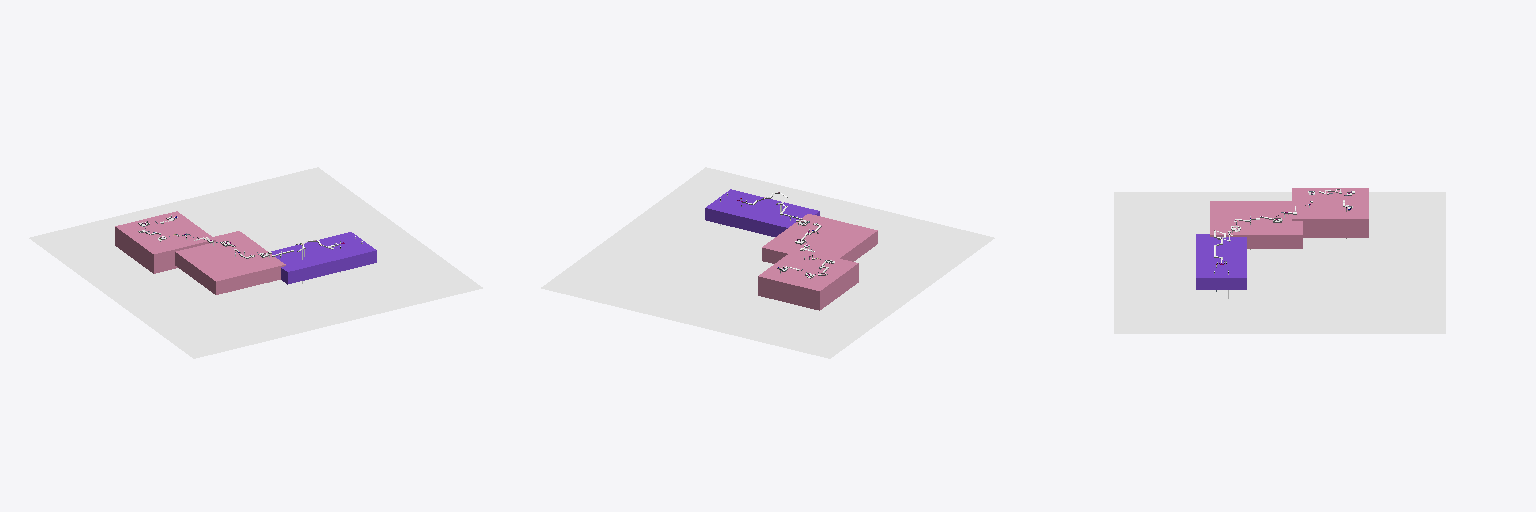
Rendered from level1.obj.
The picture shows the model from 3 angles: view 1: azimuth 30°, elevation 25°; view 2: azimuth 150°, elevation 25°; view 3: azimuth 270°, elevation 25°; orthographic projection.
Parts seen in each view (by area): view 1: objSkyLayer, objQuader02, objQuader01, objQuader03; view 2: objSkyLayer, objQuader01, objQuader02, objQuader03; view 3: objSkyLayer, objQuader02, objQuader01, objQuader03.
Part boxes in pixels (x1,y1,x2,y2): objSkyLayer: (29,167,482,358); objQuader02: (175,231,285,294); objQuader01: (115,211,215,273); objQuader03: (271,232,376,284); objSkyLayer: (541,167,994,358); objQuader01: (758,248,858,310); objQuader02: (762,214,877,263); objQuader03: (705,189,819,236); objSkyLayer: (1114,192,1445,333); objQuader02: (1210,201,1302,248); objQuader01: (1292,188,1368,237); objQuader03: (1196,234,1246,289).
Bounding box in the file's own units: 1893 × 436 × 1873.